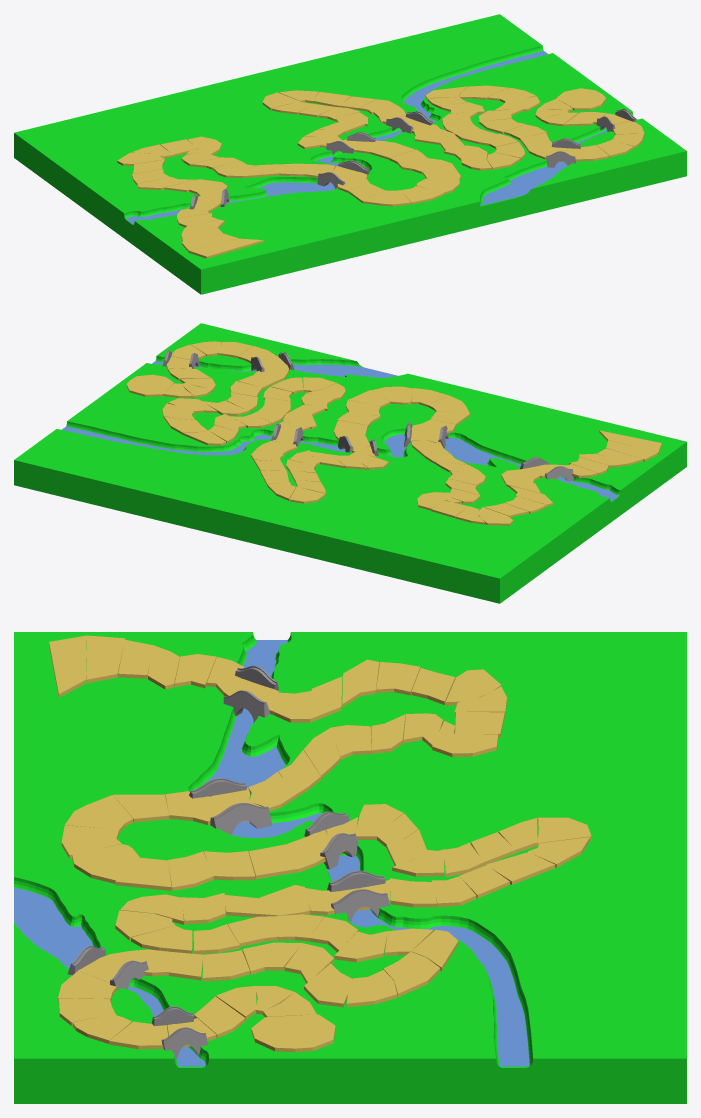
Rendered from MapaFinalV1.glb.
3 views of the same model, one above another, from view 1: azimuth 30°, elevation 25°; view 2: azimuth 150°, elevation 25°; view 3: azimuth 270°, elevation 25° (orthographic). The views are drawn at different scales.
Visible parts, largest first — view 1: TableroBase, Casillas, Agua, BordesRios; view 2: TableroBase, Casillas, Agua, BordesRios; view 3: TableroBase, Casillas, Agua, BordesRios, Puente2P1, Puente4P2, Puente6P2, Puente3P2, Puente1P1, Puente4P1, Puente2P2.
Boxes of the visible parts, bbox=[...] form: TableroBase: bbox=[14, 14, 686, 294]; Casillas: bbox=[117, 85, 644, 258]; Agua: bbox=[125, 50, 637, 224]; BordesRios: bbox=[124, 45, 633, 224]; TableroBase: bbox=[14, 323, 686, 603]; Casillas: bbox=[126, 341, 661, 525]; Agua: bbox=[61, 361, 619, 501]; BordesRios: bbox=[66, 356, 620, 501]; TableroBase: bbox=[14, 632, 686, 1103]; Casillas: bbox=[49, 635, 591, 1052]; Agua: bbox=[14, 640, 529, 1066]; BordesRios: bbox=[14, 632, 533, 1067]; Puente2P1: bbox=[210, 803, 272, 834]; Puente4P2: bbox=[331, 889, 390, 921]; Puente6P2: bbox=[161, 1027, 207, 1058]; Puente3P2: bbox=[320, 833, 358, 869]; Puente1P1: bbox=[223, 690, 269, 722]; Puente4P1: bbox=[327, 870, 385, 891]; Puente2P2: bbox=[189, 778, 246, 798].
Size of the model in its own units: 72 by 5.11 by 48.
